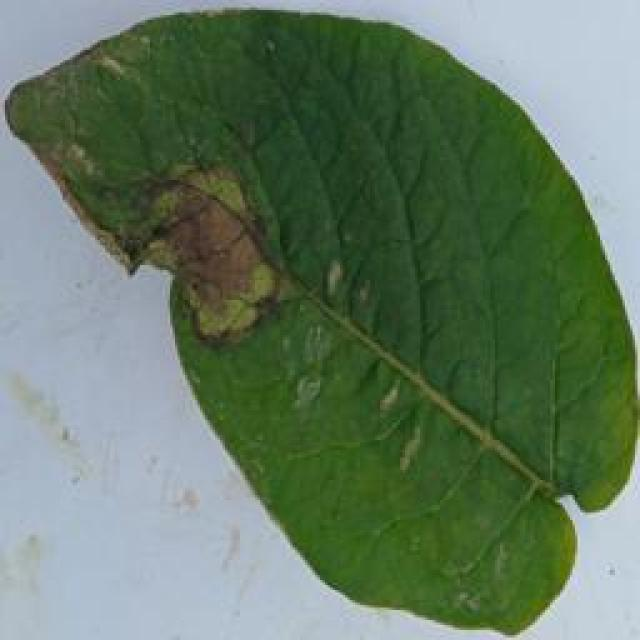Potato_Late_Blight: (4, 6, 635, 634)
